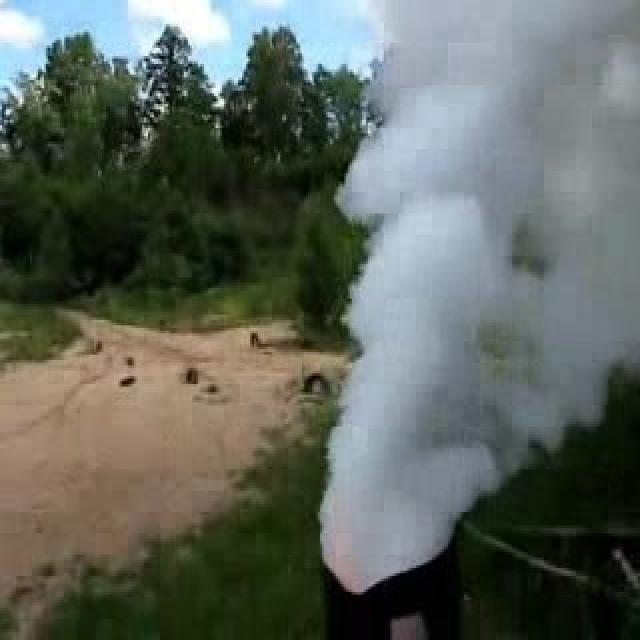Smoke: (314, 0, 640, 597)
